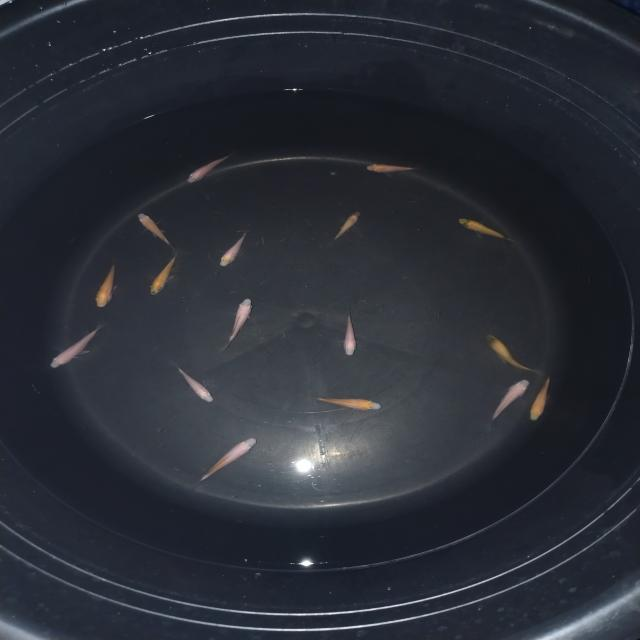nila: (193, 436, 259, 486), (482, 374, 536, 428), (476, 331, 540, 374), (46, 325, 104, 371), (182, 149, 241, 186), (448, 215, 523, 244), (219, 296, 257, 348), (170, 362, 216, 404), (135, 212, 180, 252), (301, 394, 386, 414), (146, 253, 184, 297), (218, 227, 256, 270), (327, 207, 368, 245), (527, 372, 557, 423), (94, 256, 122, 310), (341, 306, 361, 359), (357, 162, 425, 176)
